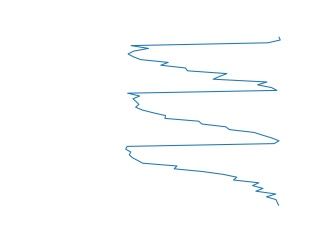distributaryMouthBar: (123, 37, 287, 208)
